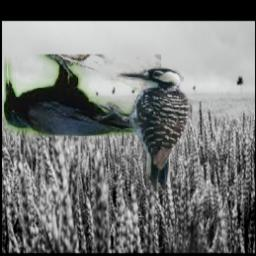Crow: (3, 54, 160, 136)
Woodpecker: (93, 66, 196, 192)
